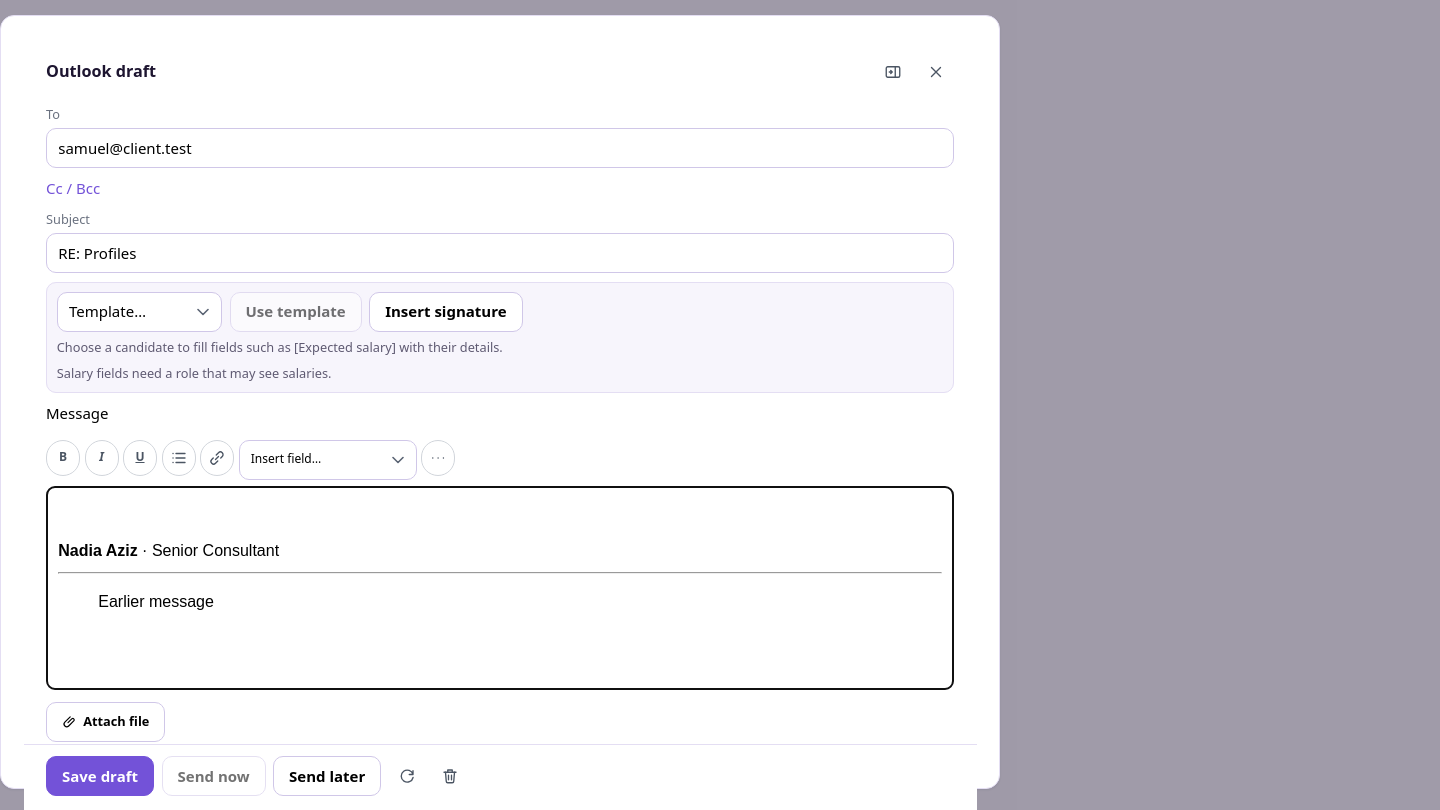
Scenario: HyPlug tools in the Outlook editor › keeps a reply's subject and puts a template above the quoted message
Expected: the field labelled "message" shows "Nadia Aziz", [46, 486, 954, 690]
Expected: the button "Send now" is disabled, [162, 756, 266, 796]
Step 1. Select "Profiles for client" in the dropdown named "Template" → [139, 312], box [57, 292, 222, 332]
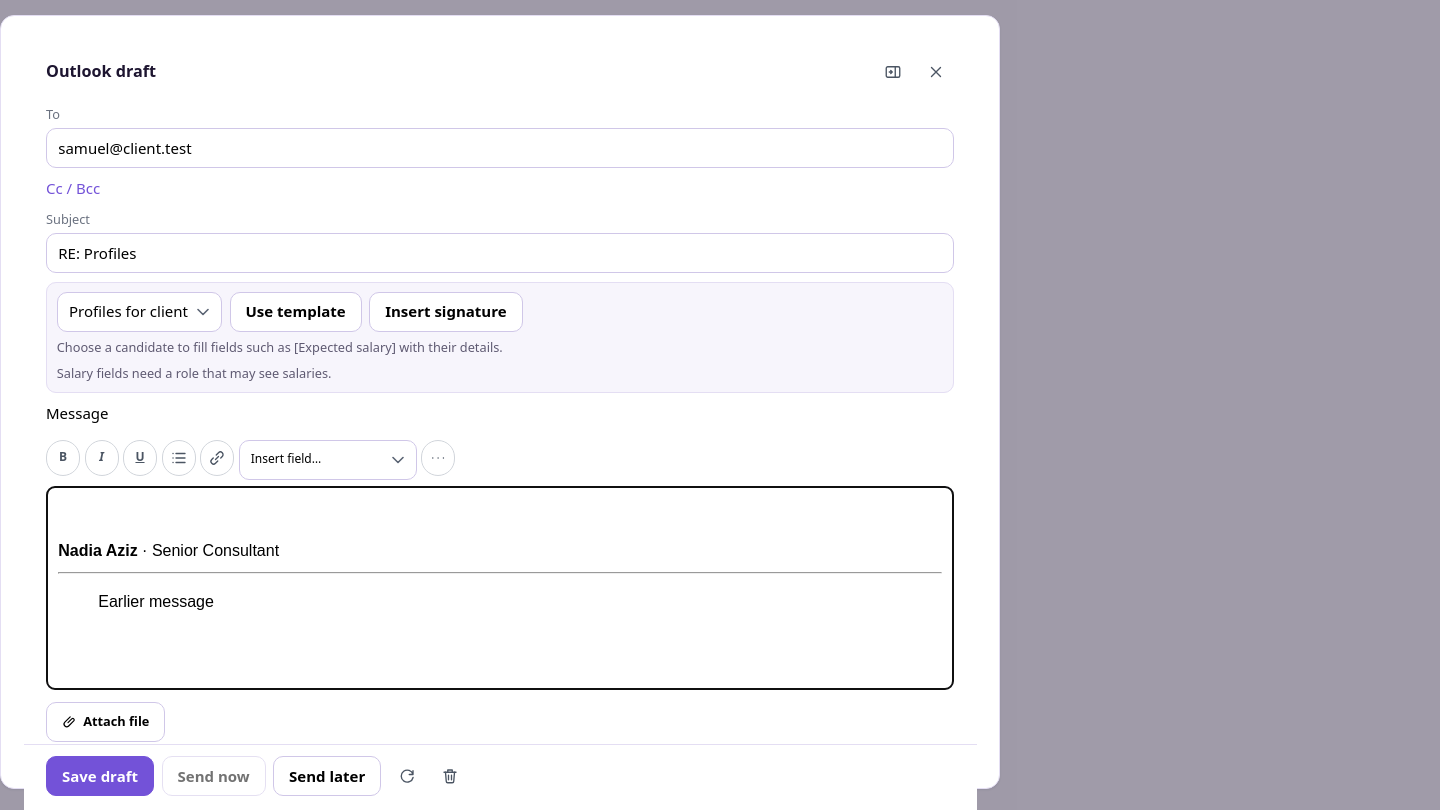
Step 2. Click the button "Use template" → [296, 312], box [230, 292, 362, 332]
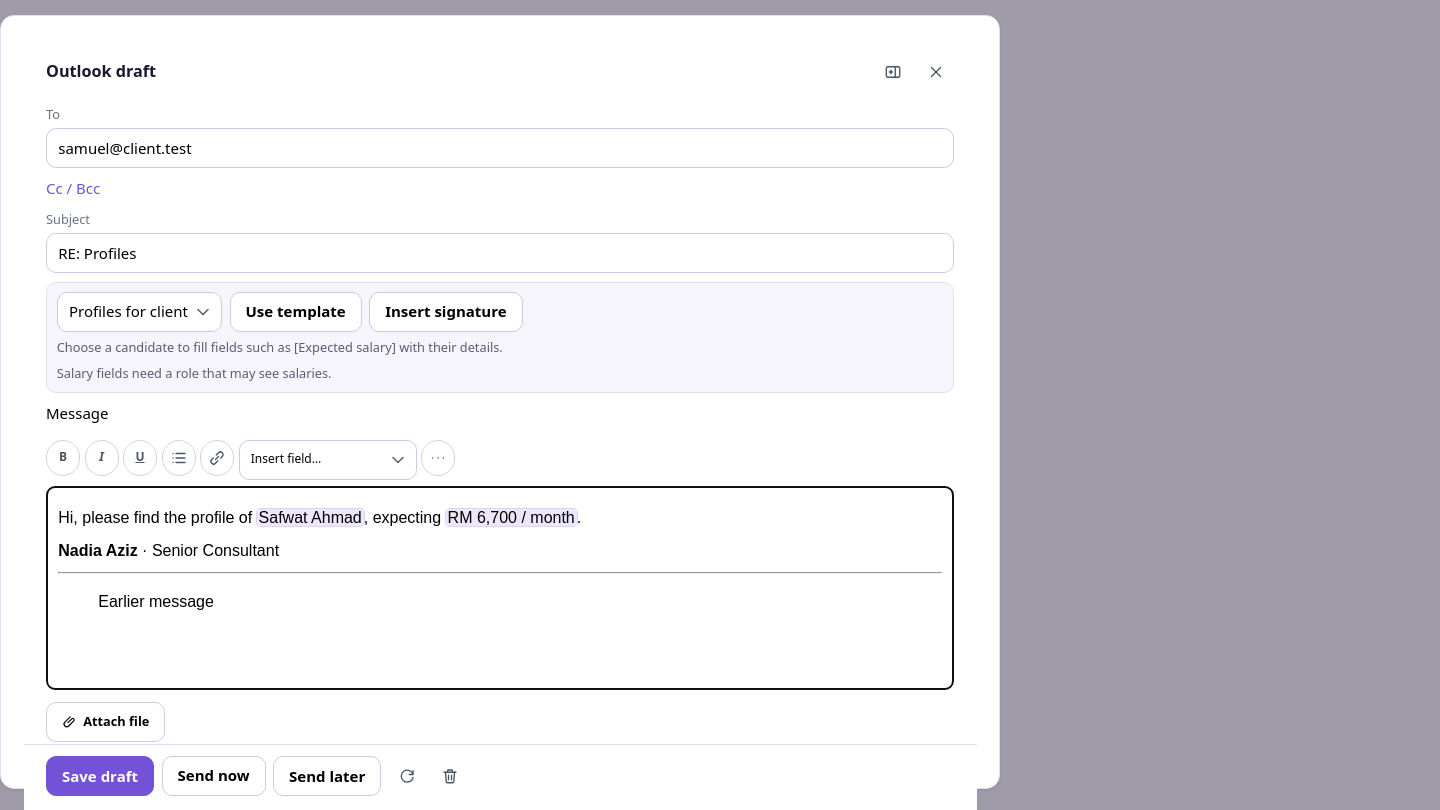
Expected: the field labelled "Subject" holds "RE: Profiles", [46, 233, 954, 273]
Result: the field named "Message" shows "please find the profile" at [46, 486, 954, 690]
